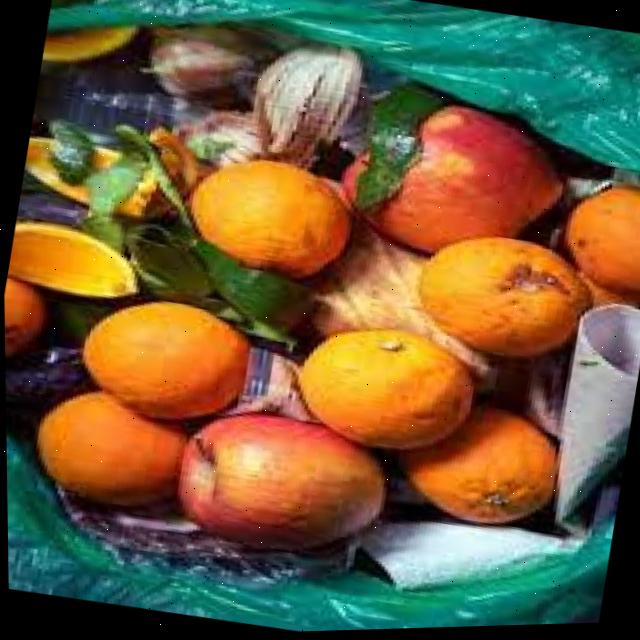Wet: (0, 0, 640, 640), (66, 105, 375, 346), (149, 395, 401, 572)
